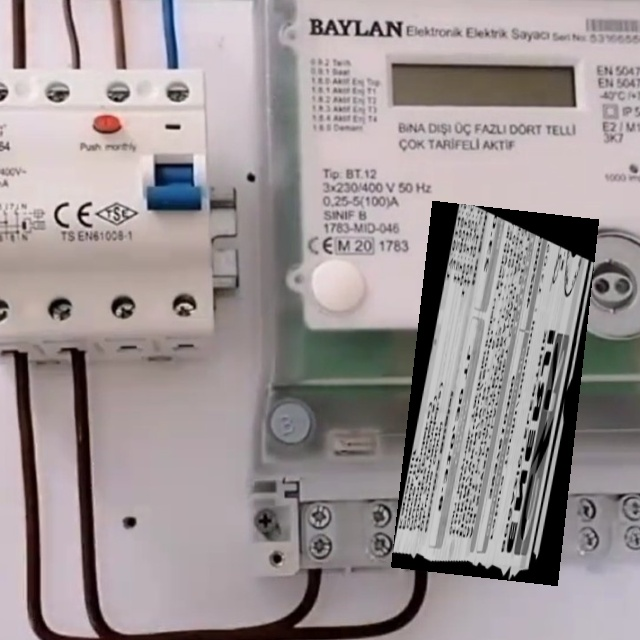electricity-bill: (390, 200, 598, 585)
